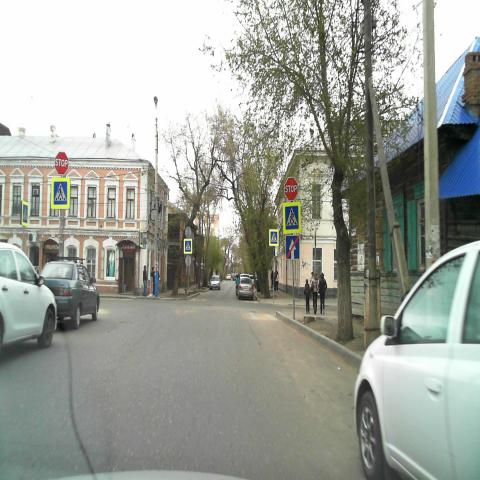2_5: (54, 152, 68, 176)
